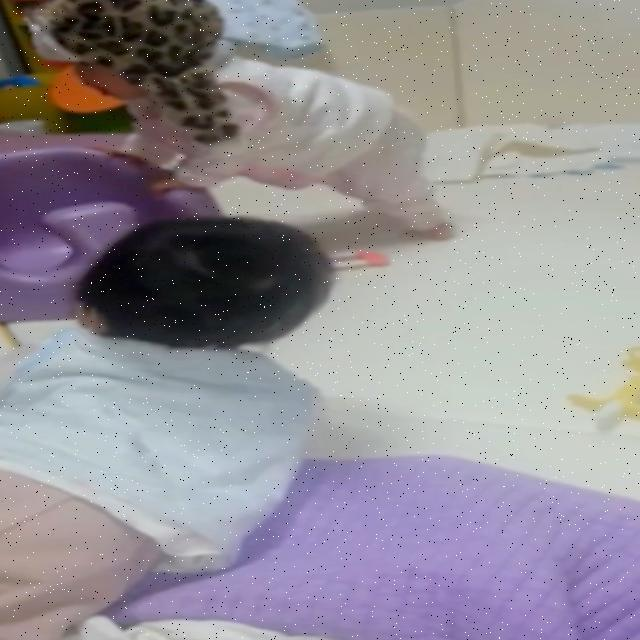child: (0, 218, 327, 640), (26, 0, 459, 241)
